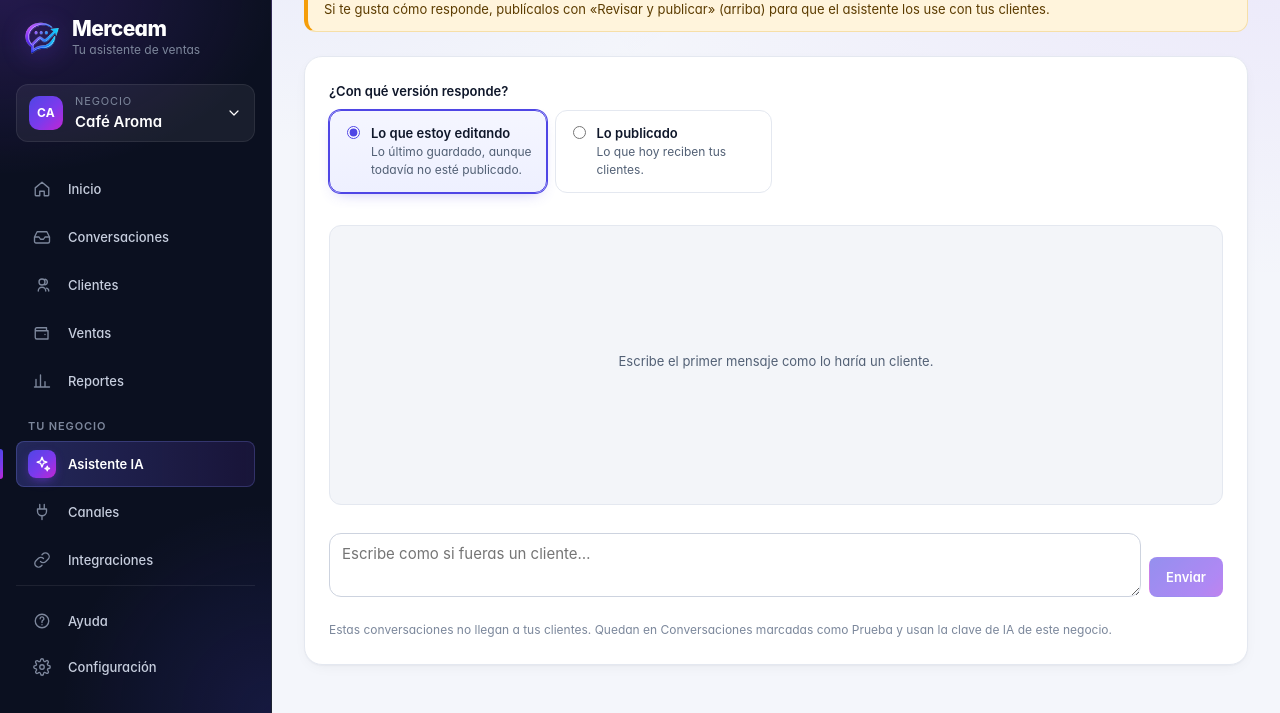
Scenario: Probar asistente › conversa, continúa la misma conversación y empieza otra
The width and height of the screenshot is (1280, 713).
(page scrolled)
Type "Hola, ¿qué venden?" into the text box named "Mensaje de prueba".
click(735, 565); type("Hola, ¿qué venden?")  # box [329, 533, 1141, 598]
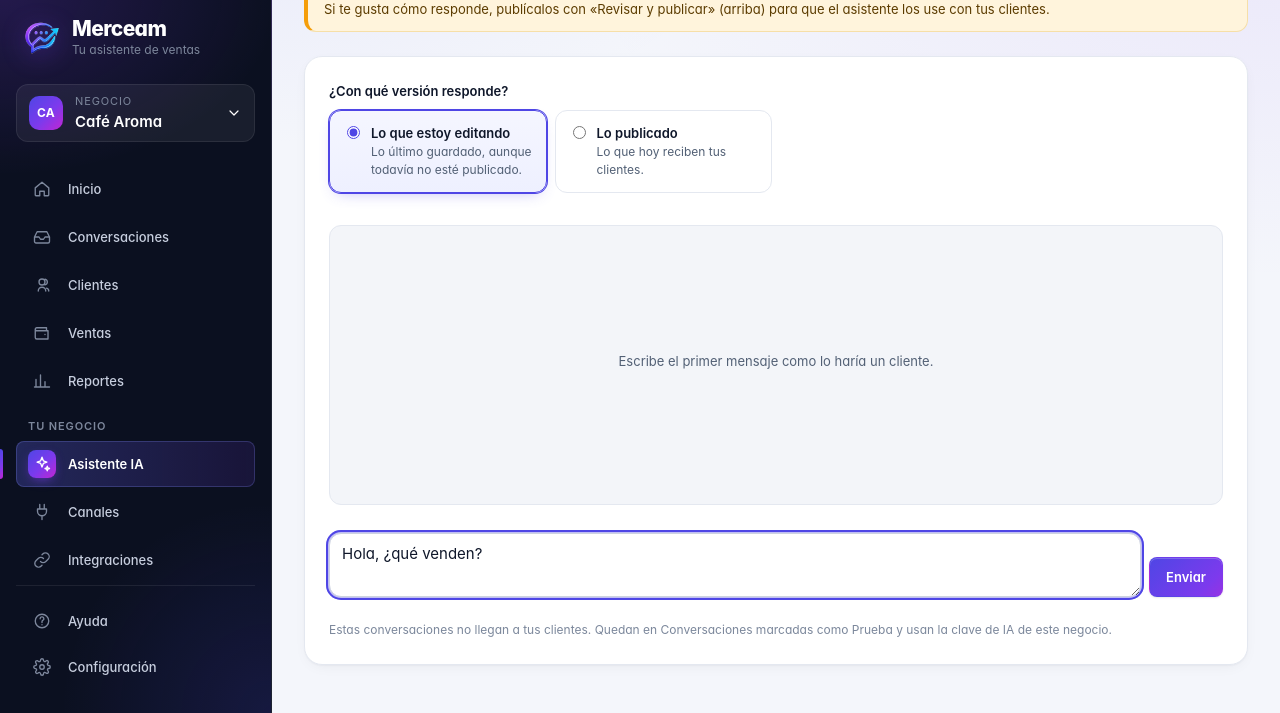
Click the button "Enviar".
click(1186, 577)  # box [1149, 557, 1223, 597]
(page scrolled)
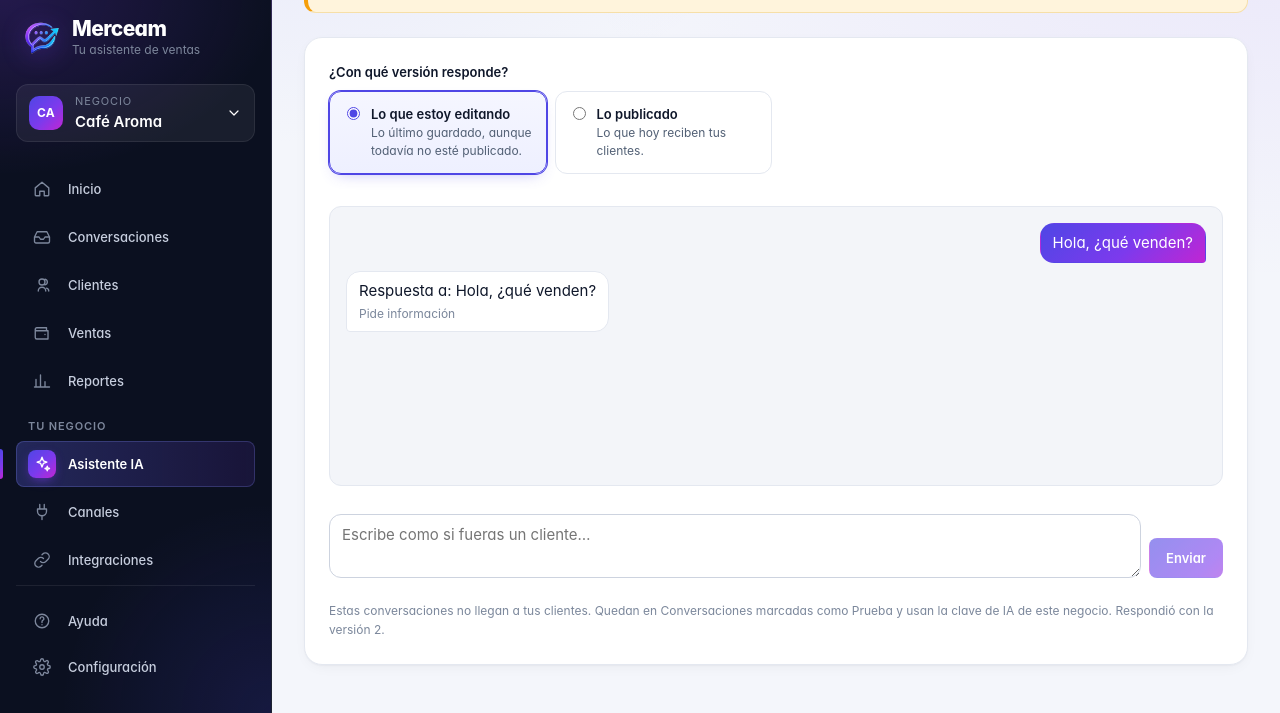
Expected: the text "Respuesta a: Hola, ¿qué venden?" is shown, [359, 281, 596, 300]
Expected: the text "Hola, ¿qué venden?" is shown, [1040, 223, 1206, 263]
Type "¿Cuánto cuesta?" into the text box named "Mensaje de prueba".
click(735, 546); type("¿Cuánto cuesta?")  # box [329, 514, 1141, 578]
Then press Enter
(page scrolled)
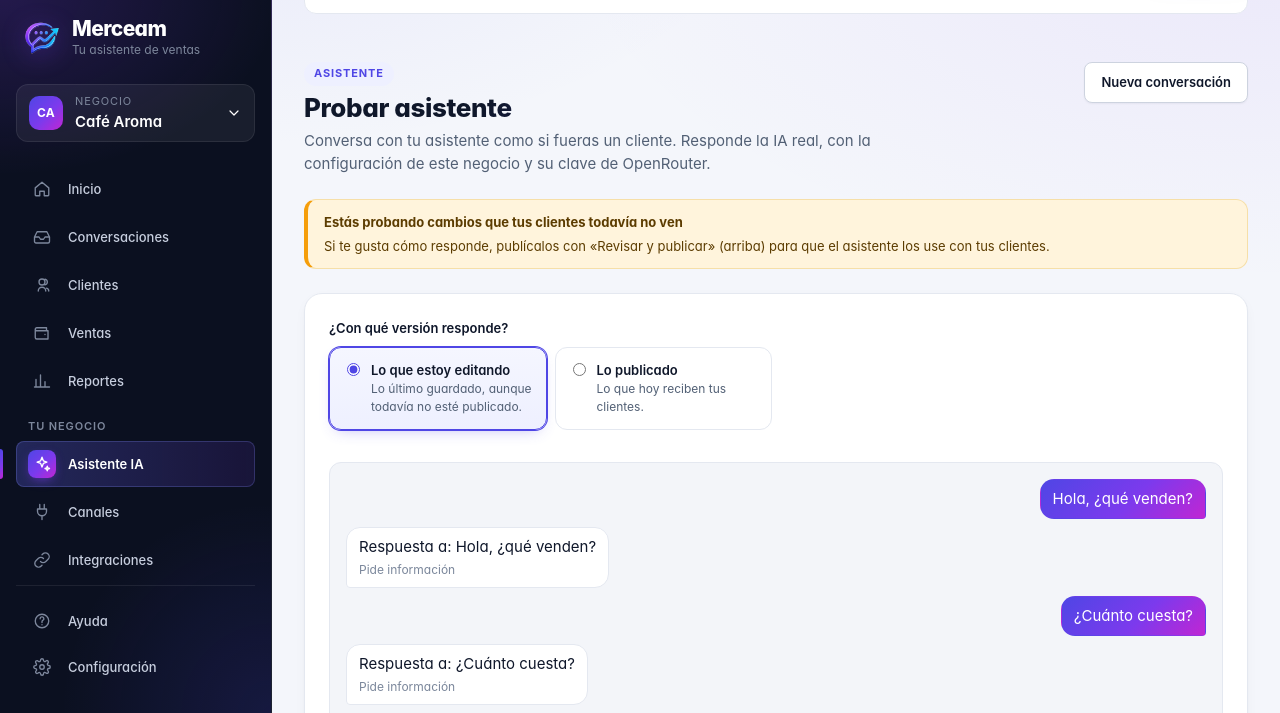
Expected: the text "Respuesta a: ¿Cuánto cuesta?" is shown, [359, 654, 575, 673]
Click the button "Nueva conversación".
click(1166, 83)  # box [1084, 62, 1248, 103]
(page scrolled)
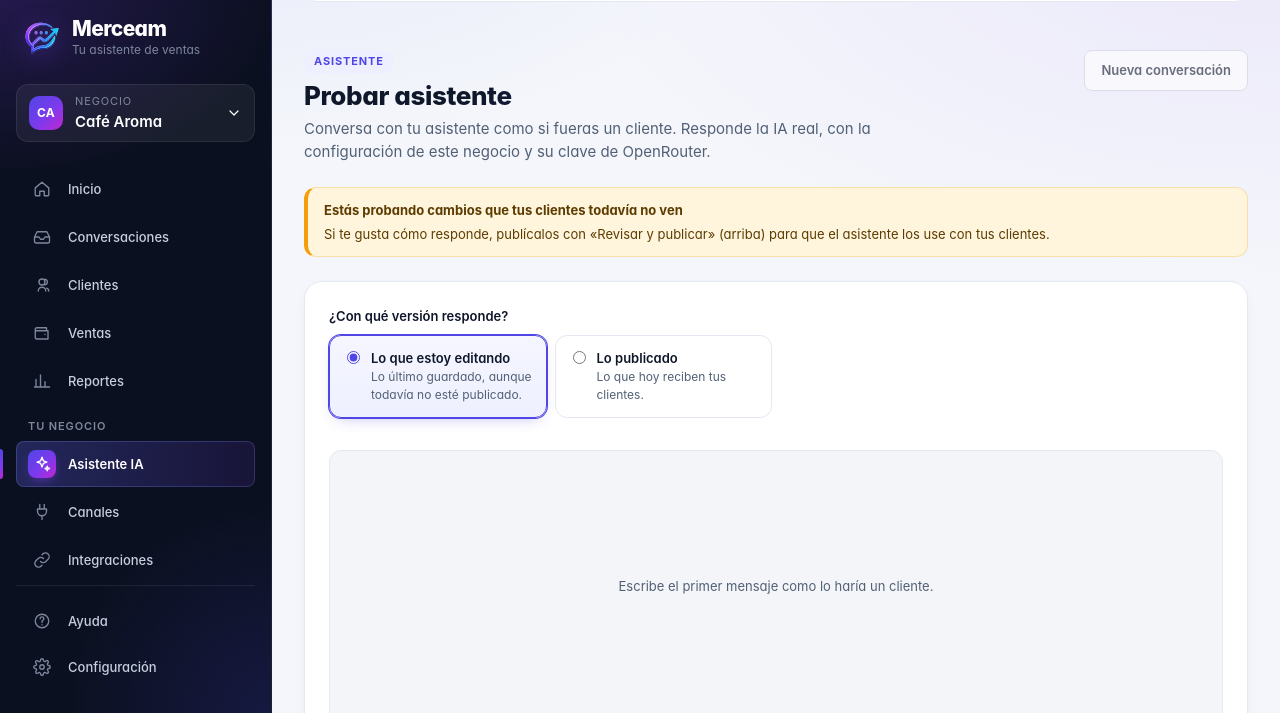
Expected: the text "Escribe el primer mensaje como lo haría un cliente." is shown, [618, 576, 933, 596]
